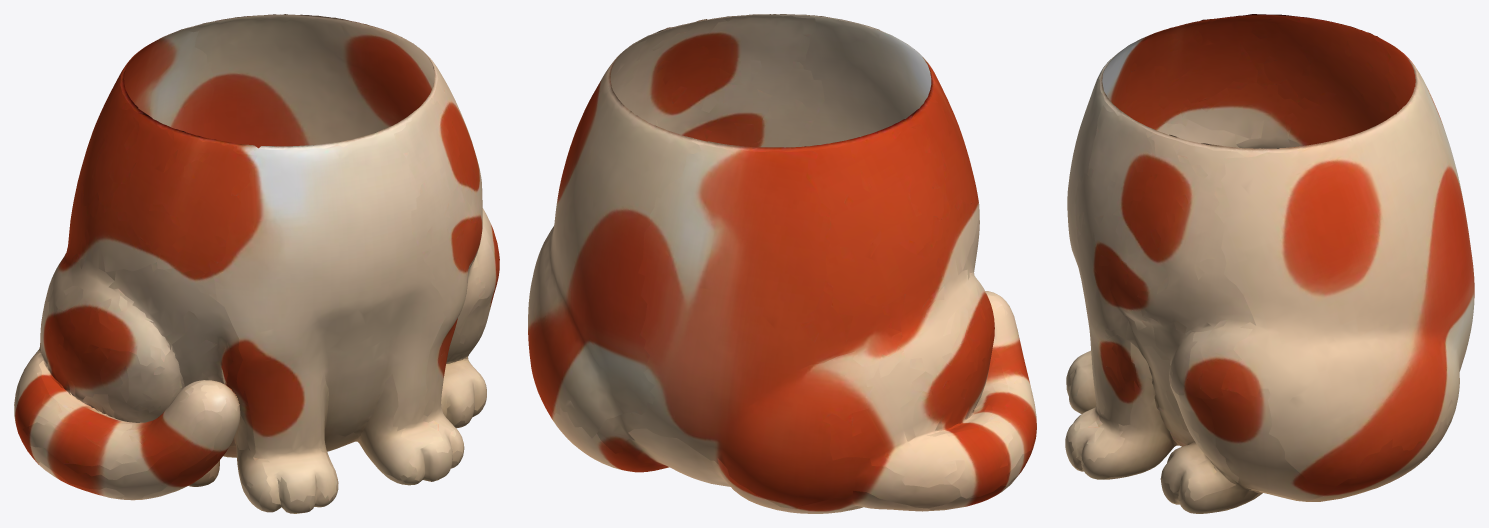
The picture shows the model from 3 angles, left to right: view 1: azimuth 30°, elevation 25°; view 2: azimuth 150°, elevation 25°; view 3: azimuth 270°, elevation 25°; orthographic projection. The views are drawn at different scales.
Visible parts, largest first — view 1: geometry_0; view 2: geometry_0; view 3: geometry_0.
Part boxes in pixels (bbox=[...]): geometry_0: bbox=[14, 14, 499, 513]; geometry_0: bbox=[528, 14, 1036, 513]; geometry_0: bbox=[1065, 14, 1474, 513].
Bounding box in the file's own units: 0.2328 × 0.1732 × 0.1814.
1 material, 1 textured.
